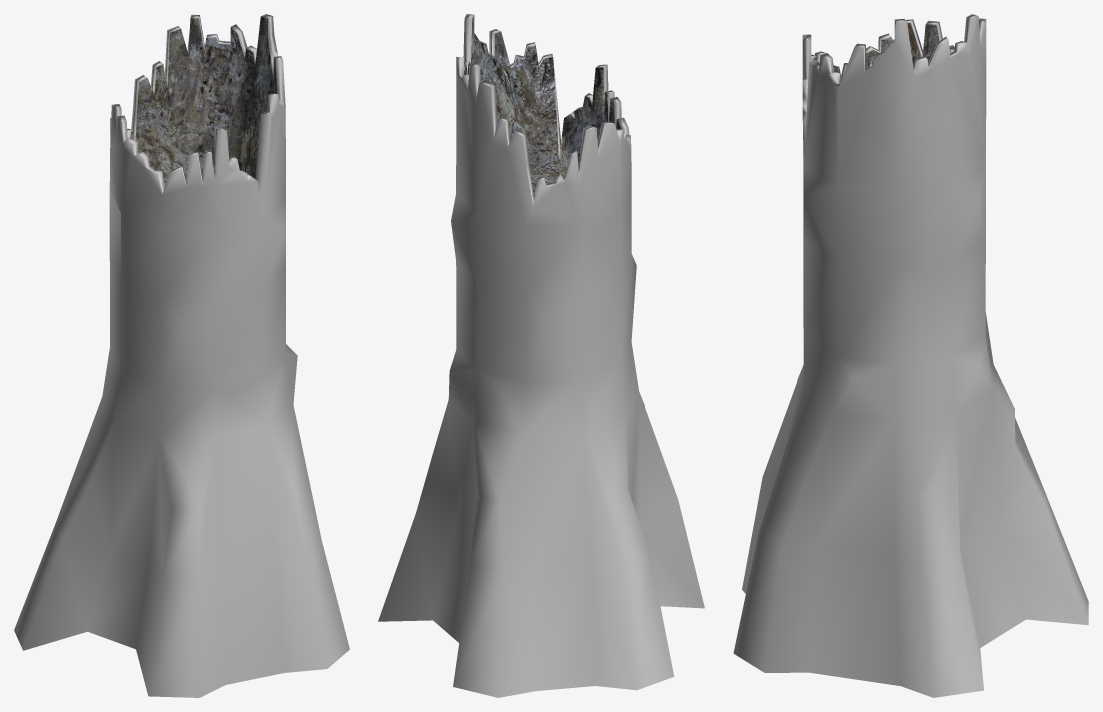
File: Trunk2.fbx
The picture shows the model from 3 angles, left to right: view 1: azimuth 30°, elevation 25°; view 2: azimuth 150°, elevation 25°; view 3: azimuth 270°, elevation 25°; orthographic projection. The views are drawn at different scales.
Visible parts, largest first — view 1: pCylinder2; view 2: pCylinder2; view 3: pCylinder2.
Part boxes in pixels (x1=…): pCylinder2: x1=14, y1=14, x2=349, y2=697; pCylinder2: x1=378, y1=14, x2=704, y2=697; pCylinder2: x1=733, y1=14, x2=1088, y2=697.
Bounding box in the file's own units: 2.08 × 4.05 × 2.02.
